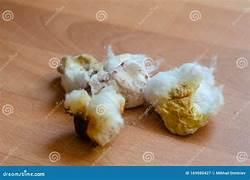cotton: (144, 63, 223, 134), (64, 86, 124, 145), (104, 47, 148, 107), (87, 86, 124, 145), (58, 54, 102, 91), (64, 89, 90, 114)
